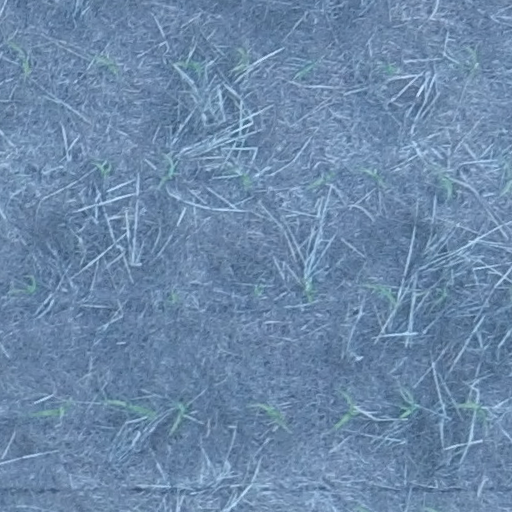planta: (106, 397, 157, 419), (5, 38, 32, 75), (427, 167, 454, 203), (334, 392, 357, 429), (166, 402, 189, 436), (454, 399, 487, 422), (357, 165, 388, 187), (256, 402, 284, 425), (92, 53, 118, 75), (306, 171, 336, 190), (10, 275, 38, 295), (231, 46, 250, 73), (366, 284, 396, 301), (174, 58, 203, 75), (229, 165, 252, 186), (160, 152, 176, 182), (465, 46, 479, 79), (301, 276, 315, 307), (30, 406, 69, 417), (294, 61, 318, 78), (93, 161, 114, 176), (398, 404, 417, 418)
